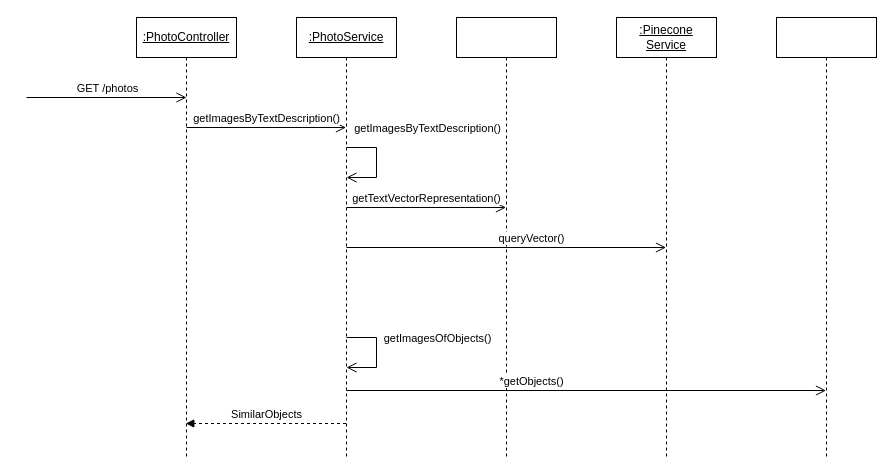
Some shapes in this 894 by 475 pixel diagram are drawn without their labels. Here are the shapes that lost their labels. From the top down, the box of each, then its label:
(456, 16, 556, 458): :OpenAI Embeddings
(776, 16, 876, 458): :S3Service
